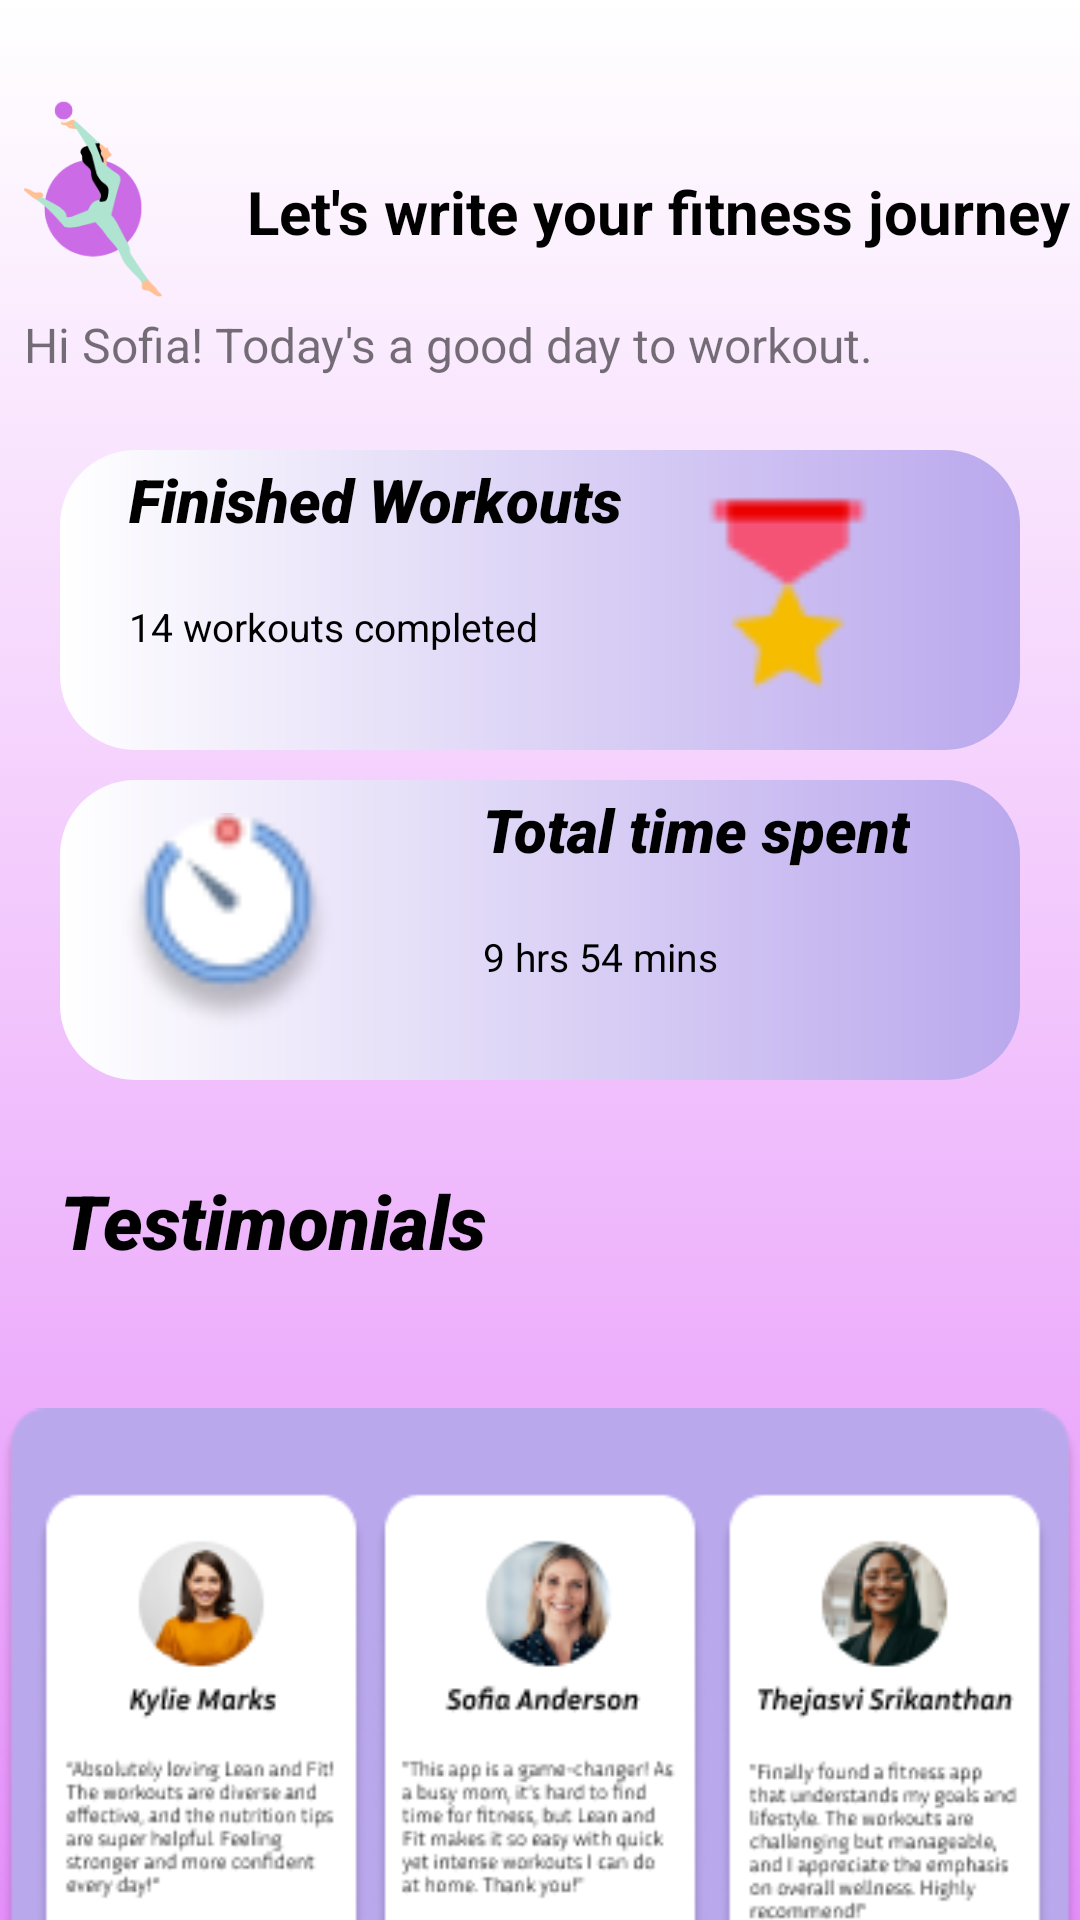

Icons on this 1080w x 1920h Android screen, each with the point to tap as (x=x, y=y):
medal: (x=788, y=593)
timer: (x=233, y=915)
